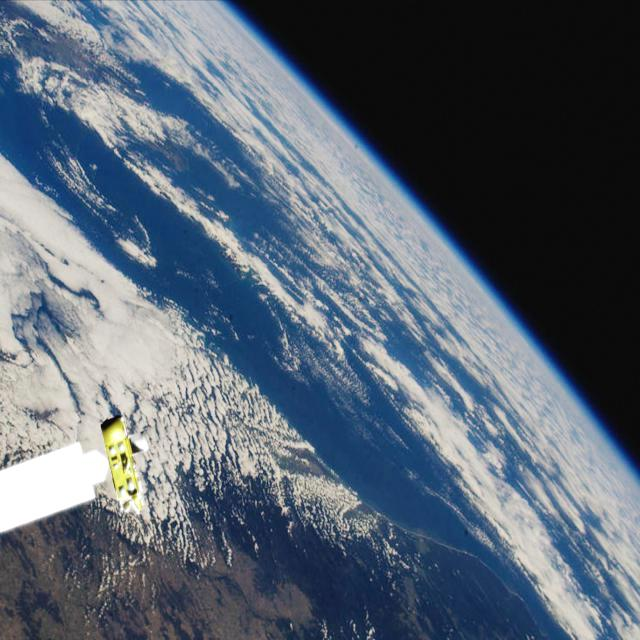satellite: (0, 416, 154, 536)
